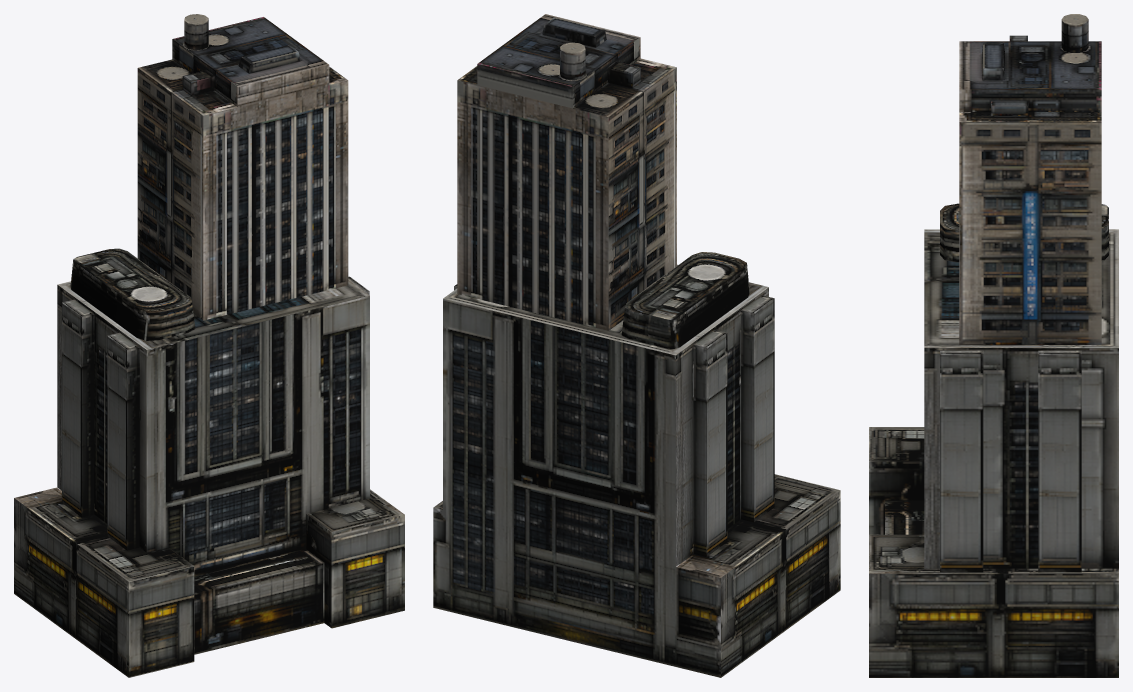
The model's file is CP_Skyscraper_13.fbx.
3 renders of one model, left to right at view 1: azimuth 30°, elevation 25°; view 2: azimuth 150°, elevation 25°; view 3: azimuth 270°, elevation 25°, orthographic. The views are drawn at different scales.
Parts seen in each view (by area): view 1: CP_Skyscraper_13; view 2: CP_Skyscraper_13; view 3: CP_Skyscraper_13.
Part boxes in pixels (x1,y1,x2,y2): CP_Skyscraper_13: [14, 14, 404, 677]; CP_Skyscraper_13: [433, 14, 840, 677]; CP_Skyscraper_13: [869, 14, 1118, 677].
Size of the model in its own units: 3567 by 6788 by 2571.
